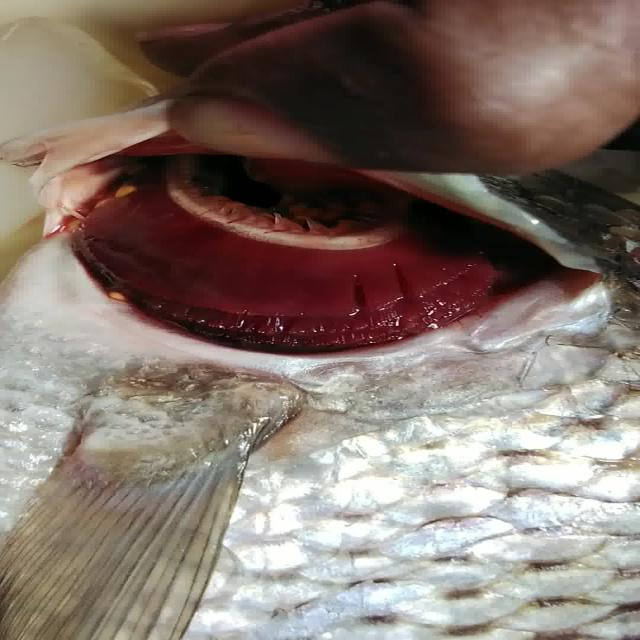Fresh: (35, 161, 583, 362)
